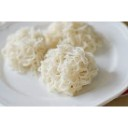idiyappam: (40, 45, 101, 94), (6, 26, 50, 72), (48, 21, 102, 50)
